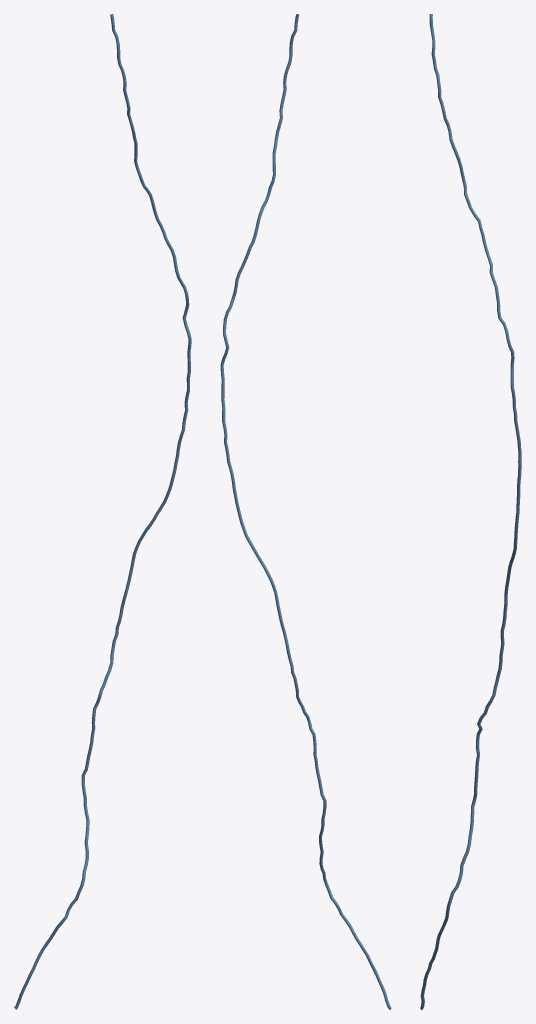
The model's file is sweep70.fbx.
3 renders of one model, left to right at view 1: azimuth 30°, elevation 25°; view 2: azimuth 210°, elevation 25°; view 3: azimuth 330°, elevation 25°, orthographic. The views are drawn at different scales.
Visible parts, largest first — view 1: sweep70; view 2: sweep70; view 3: sweep70.
Boxes of the visible parts, x1,y1,x2,y2 form: sweep70: (14, 14, 191, 1009); sweep70: (220, 14, 391, 1009); sweep70: (420, 14, 521, 1009).
Size of the model in its own units: 0.9502 by 6.76 by 0.5767.
